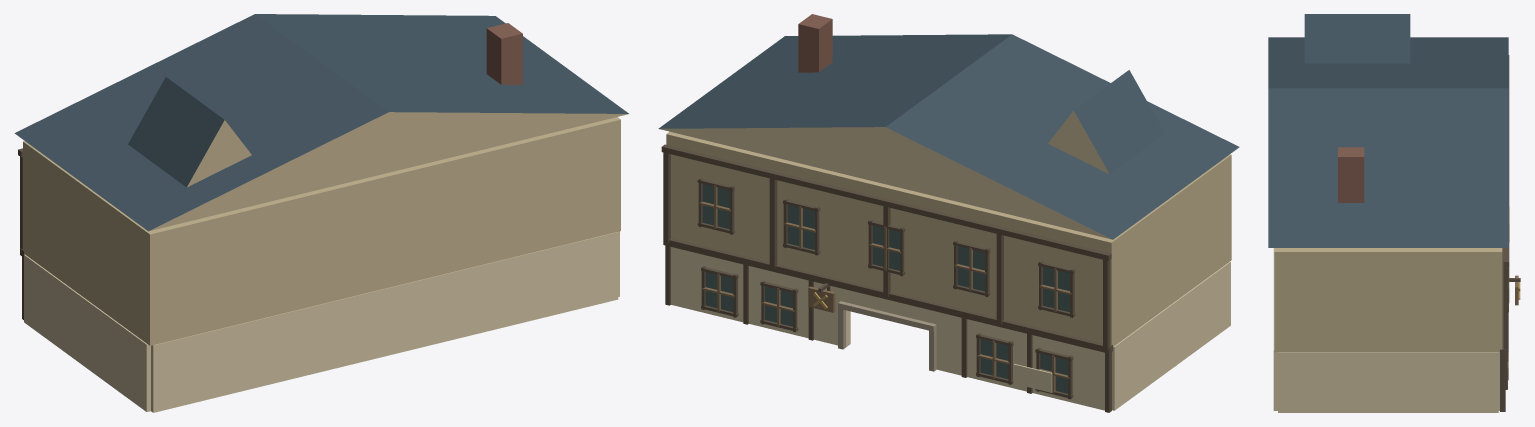
File: WalkTown_Guild_Cover.fbx
The picture shows the model from 3 angles, left to right: view 1: azimuth 30°, elevation 25°; view 2: azimuth 150°, elevation 25°; view 3: azimuth 270°, elevation 25°; orthographic projection. The views are drawn at different scales.
Parts seen in each view (by area): view 1: WalkTown_Guild_Cover; view 2: WalkTown_Guild_Cover; view 3: WalkTown_Guild_Cover.
Part boxes in pixels (<box>): WalkTown_Guild_Cover: <box>14,14,628,412</box>; WalkTown_Guild_Cover: <box>658,14,1239,412</box>; WalkTown_Guild_Cover: <box>1268,14,1520,412</box>.
Bounding box in the file's own units: 16.04 × 8.26 × 8.13.
